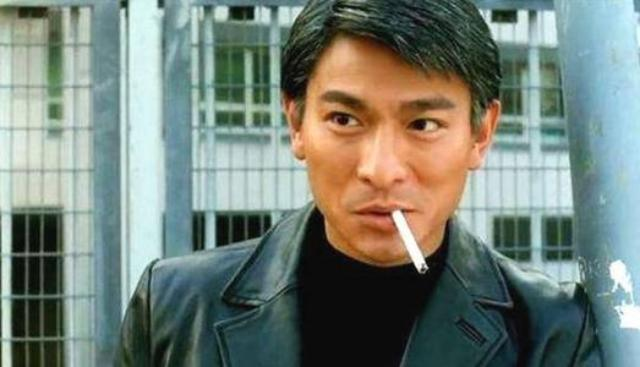SafeDriving: (396, 102, 454, 142), (317, 98, 371, 138)
Smoking: (394, 210, 430, 278)
